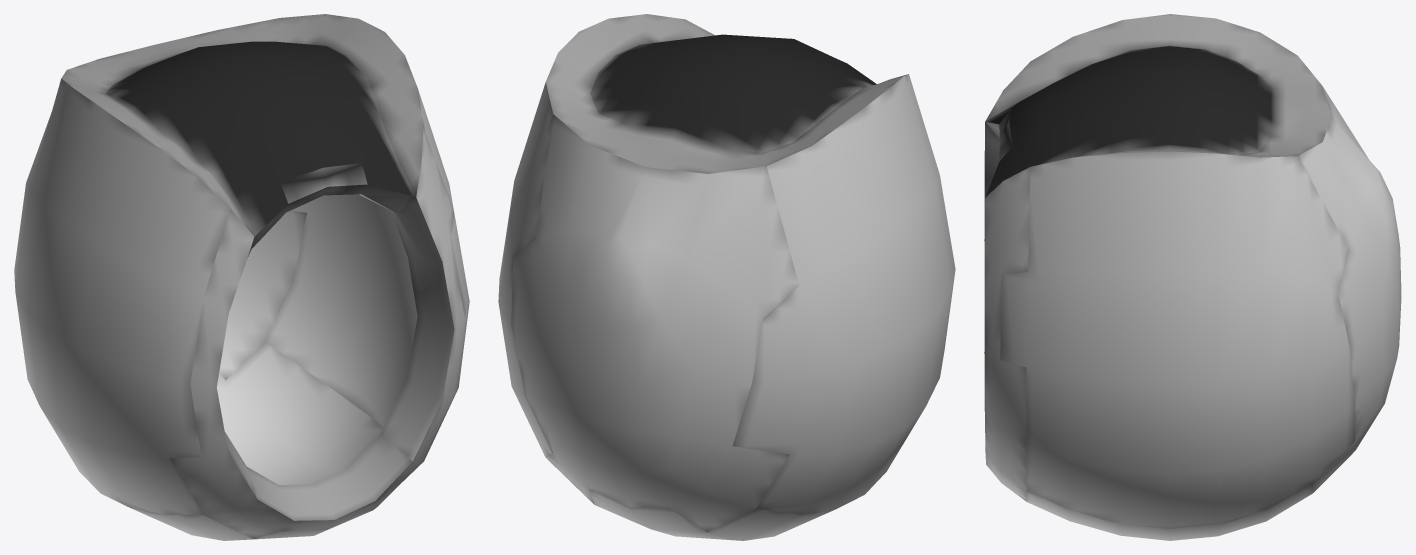
File: Spacesuit_Helmet.fbx
The picture shows the model from 3 angles, left to right: view 1: azimuth 30°, elevation 25°; view 2: azimuth 150°, elevation 25°; view 3: azimuth 270°, elevation 25°; orthographic projection. The views are drawn at different scales.
Parts seen in each view (by area): view 1: Spacesuit_Helmet; view 2: Spacesuit_Helmet; view 3: Spacesuit_Helmet.
Part boxes in pixels (x1=…): Spacesuit_Helmet: x1=14, y1=14, x2=469, y2=540; Spacesuit_Helmet: x1=498, y1=14, x2=955, y2=540; Spacesuit_Helmet: x1=984, y1=14, x2=1401, y2=540.
Size of the model in its own units: 84.25 by 96.32 by 81.74.
